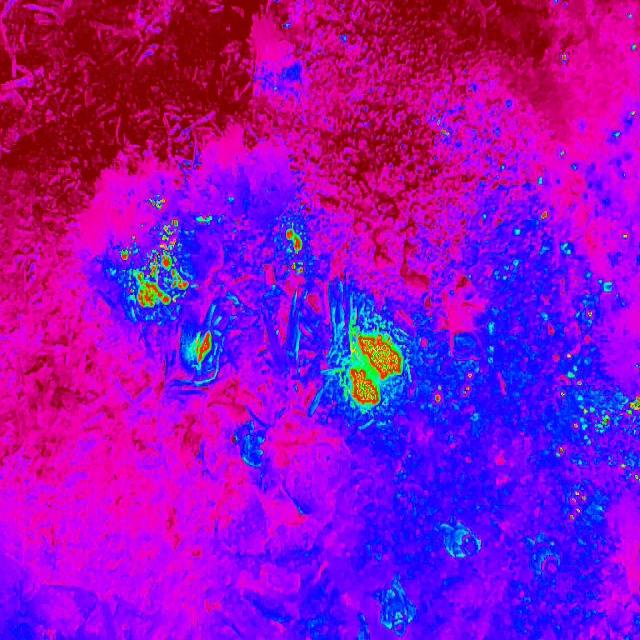fire: (531, 204, 640, 534), (336, 314, 407, 414), (120, 218, 192, 313), (275, 220, 314, 274), (427, 372, 480, 406), (186, 327, 218, 372), (142, 193, 170, 215), (430, 117, 453, 143), (558, 51, 570, 67)
